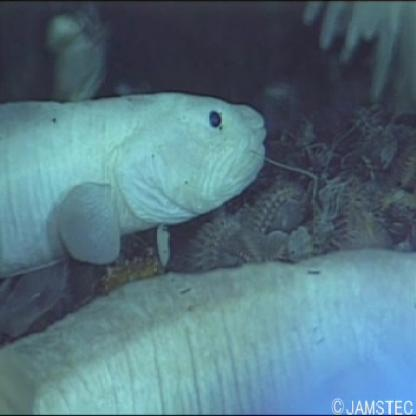Bio: (1, 87, 270, 283)
